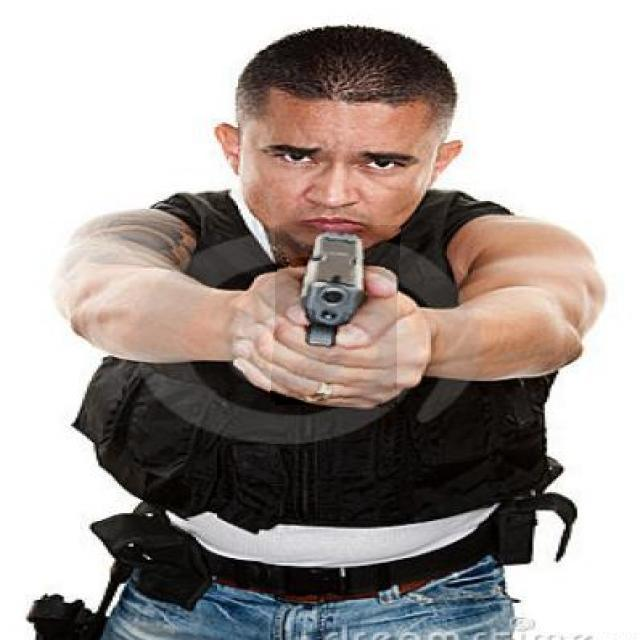Handgun: (273, 224, 400, 407)
